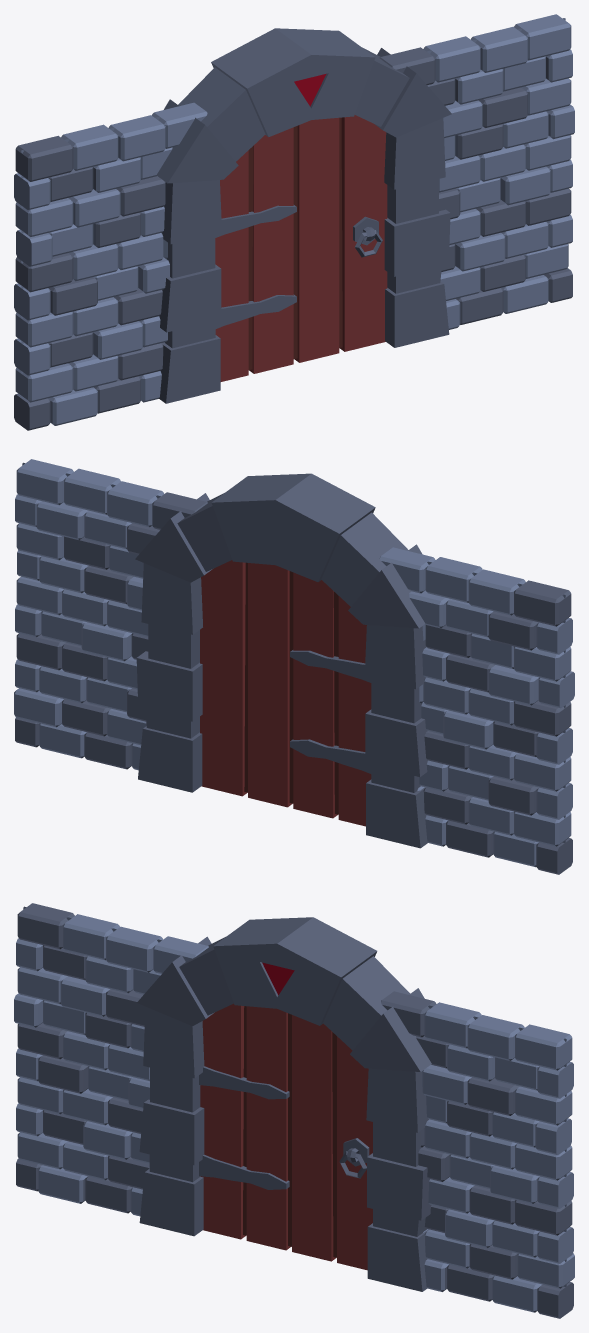
Rendered from brick wall with door.001.fbx.
3 views of the same model, one above another, from view 1: azimuth 30°, elevation 25°; view 2: azimuth 150°, elevation 25°; view 3: azimuth 330°, elevation 25° (orthographic).
Visible parts, largest first — view 1: brick wall with door.001, door.003; view 2: brick wall with door.001, door.003; view 3: brick wall with door.001, door.003.
Part boxes in pixels (x1,y1,x2,y2): brick wall with door.001: [14, 14, 574, 430]; door.003: [215, 115, 387, 381]; brick wall with door.001: [14, 459, 574, 874]; door.003: [200, 560, 371, 826]; brick wall with door.001: [14, 903, 574, 1318]; door.003: [199, 1003, 372, 1270].
Bounding box in the file's own units: 600 × 336 × 69.43.
